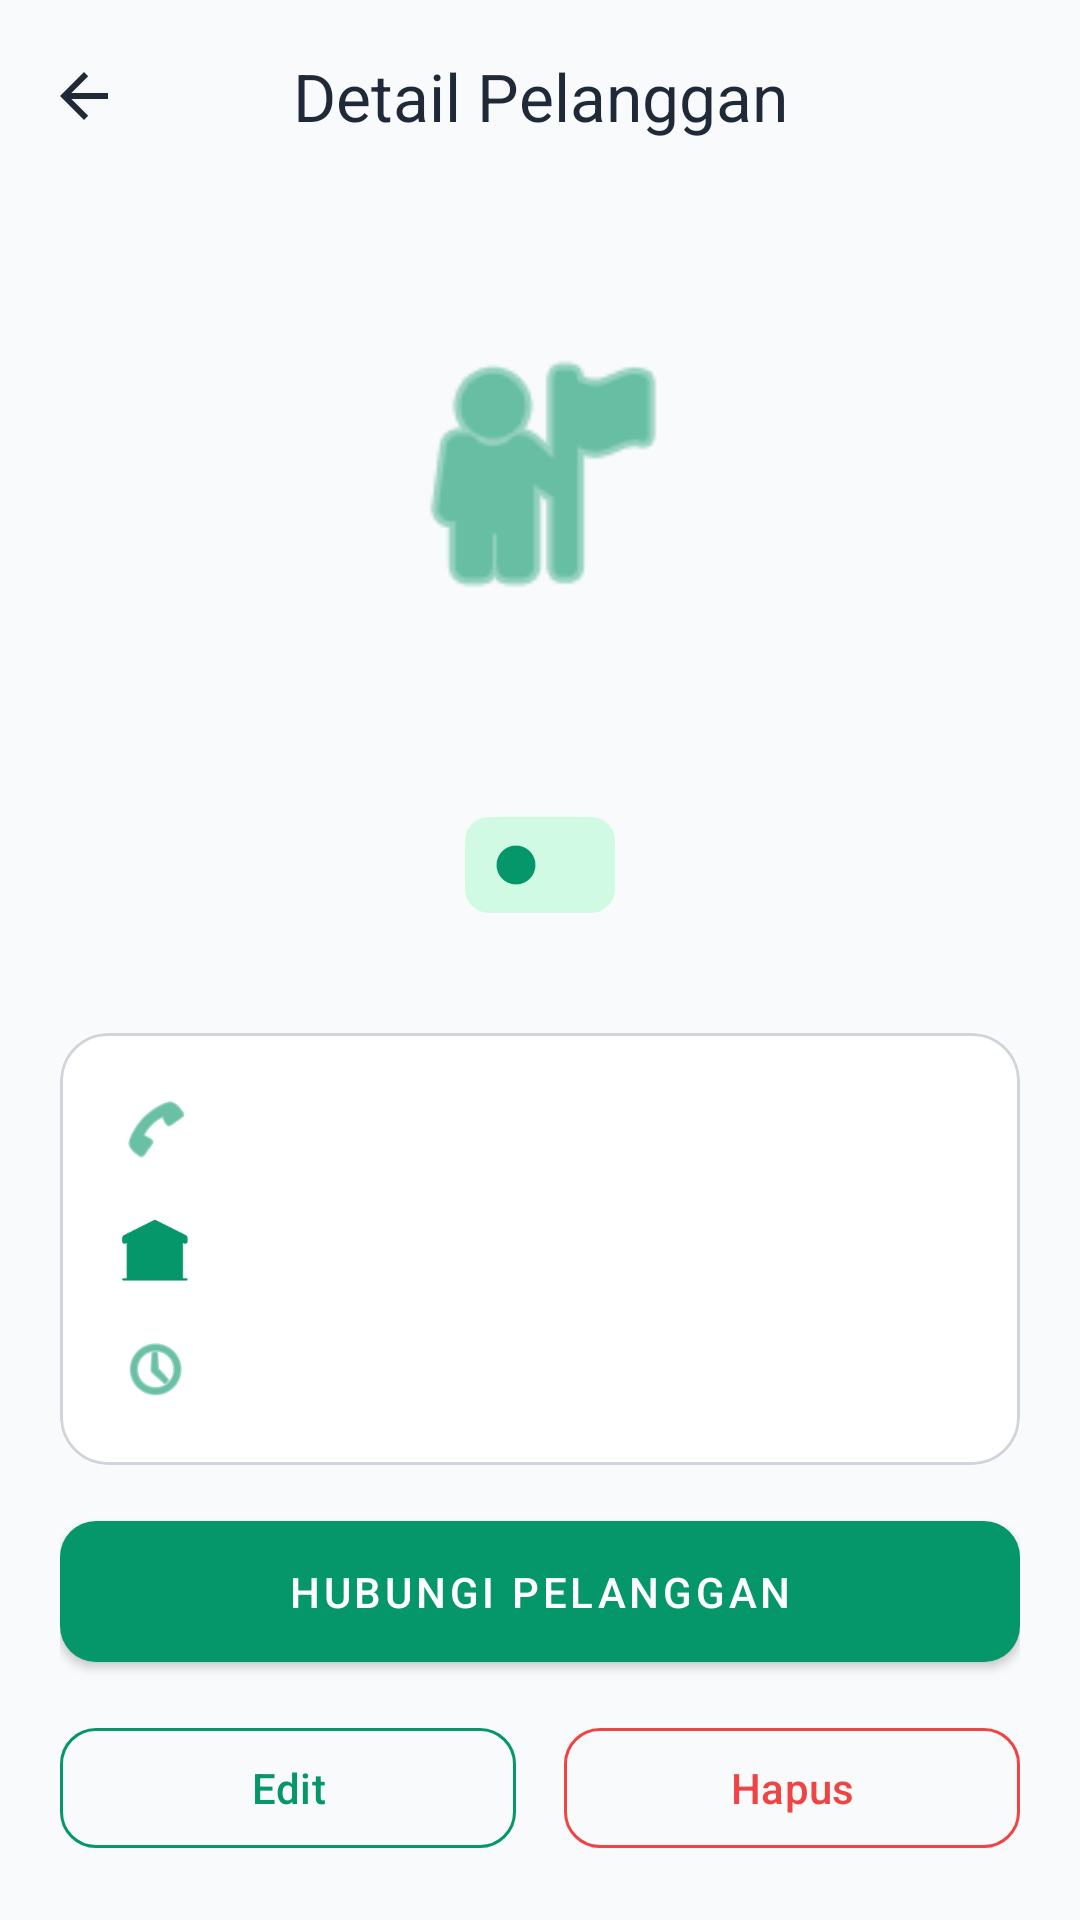

Where icons sit on this 1080*1920 app screen, as (x1, y1, x2, y2):
cabang: (122, 1220, 188, 1281)
call: (128, 1101, 185, 1158)
Ikon Pelanggan: (430, 362, 656, 586)
recent history: (129, 1343, 182, 1395)
